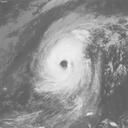cyclone: (35, 31, 92, 98)
